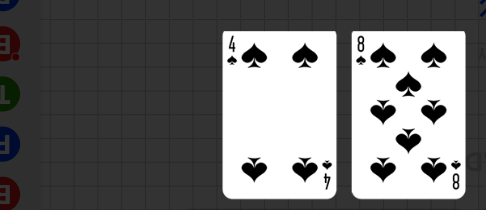4S: (226, 34, 239, 67)
8S: (449, 157, 462, 191)
